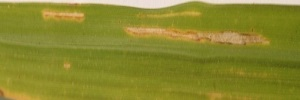RiceBacterialBlight: (37, 8, 271, 50)
